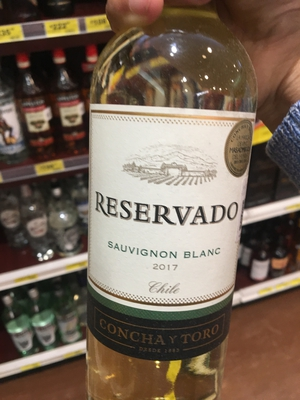reservado sauvignon blanc: (80, 20, 263, 398)
